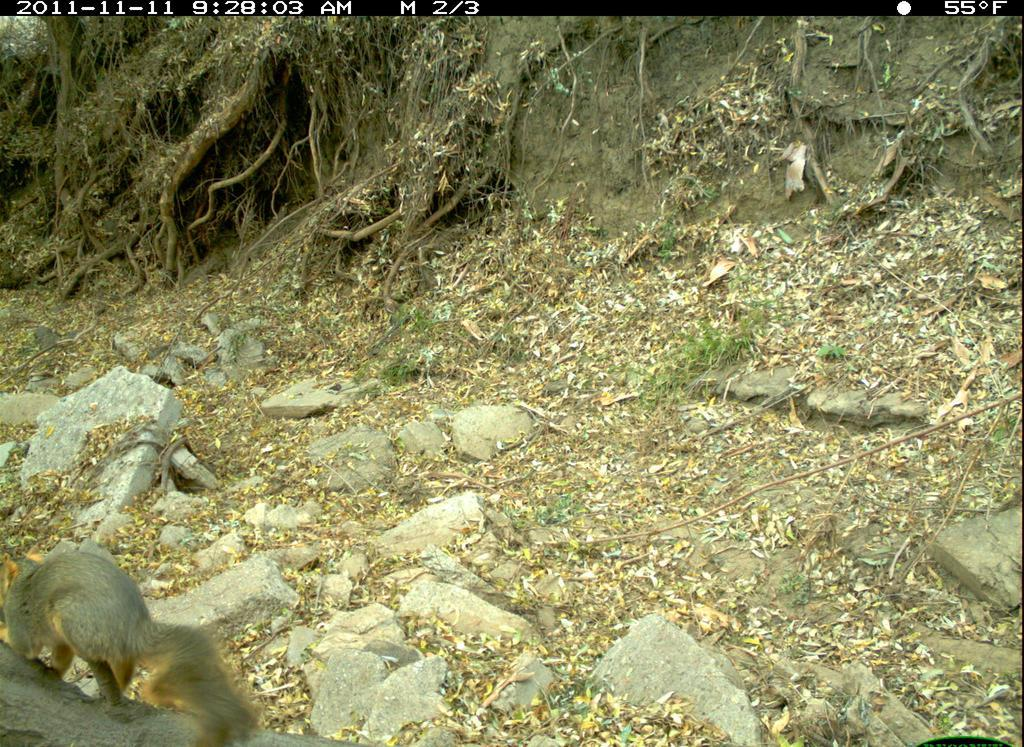squirrel: (3, 542, 272, 739)
